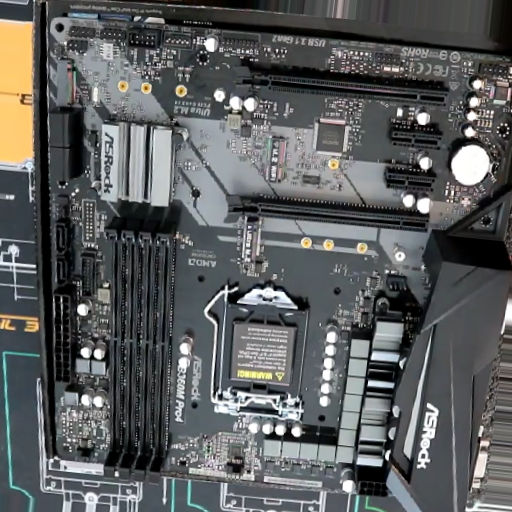CPU: (214, 284, 309, 422)
GPU: (232, 65, 451, 107), (225, 196, 427, 232)
MOTHERBOARD: (45, 17, 512, 486)
RAM: (104, 217, 176, 483)
SSD: (239, 217, 262, 267), (266, 135, 286, 183)
